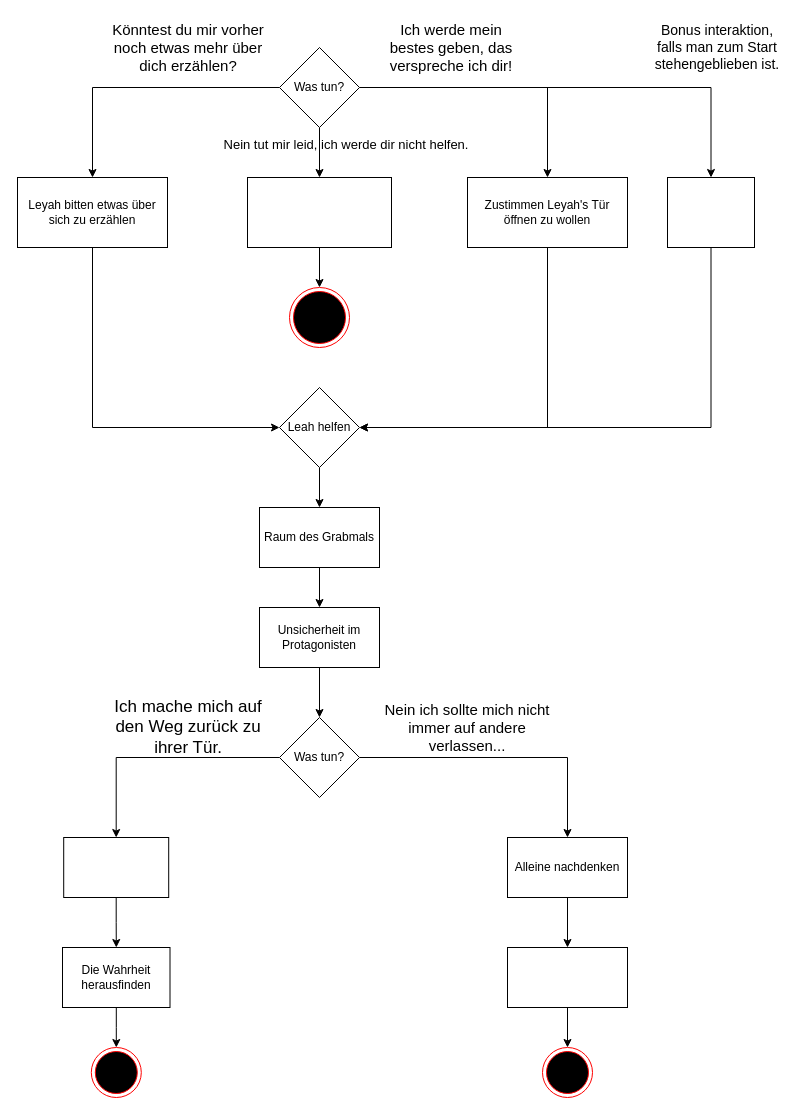
The diagram is 805 pixels wide and 1115 high, and some of its shapes have lost their labels. The shapes that lost their labels are listed below. From the top down, each one's centre as x and y in pixels, then its label:
(x=319, y=212): Ablehnen ihr zu helfen
(x=710, y=212): Leyah nach Grabmal mit Schriftzug fragen
(x=116, y=867): Leyah um Hilfe fragen
(x=567, y=977): Leyah's Tür öffnen
